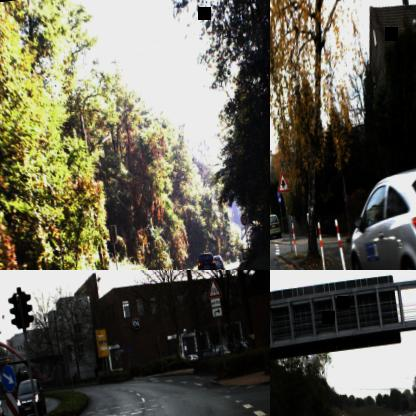CYCLES CROSSING: (205, 274, 222, 298)
keep right: (0, 363, 16, 392)
priority at next intersection: (274, 168, 291, 193)
speed limit 70: (240, 213, 247, 225)
